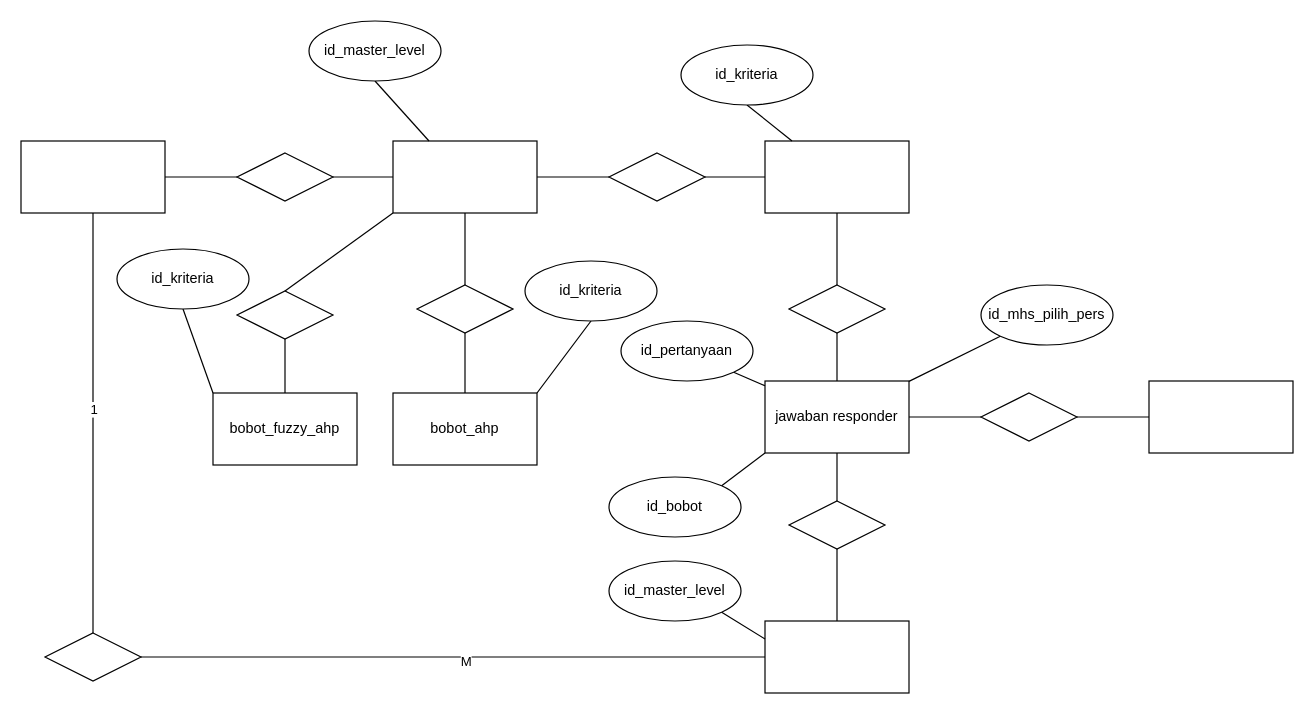
Image size: 1314x714. Some labels were removed from this diagram. Here are the shapes that lost their labels. From the top down, the box of each, then its label:
(20, 140, 165, 213): master_level
(392, 140, 537, 213): kriteria
(764, 140, 909, 213): pertanyaan
(1148, 380, 1293, 453): mahasiswa pilih perusahaan
(764, 620, 909, 693): bobot
